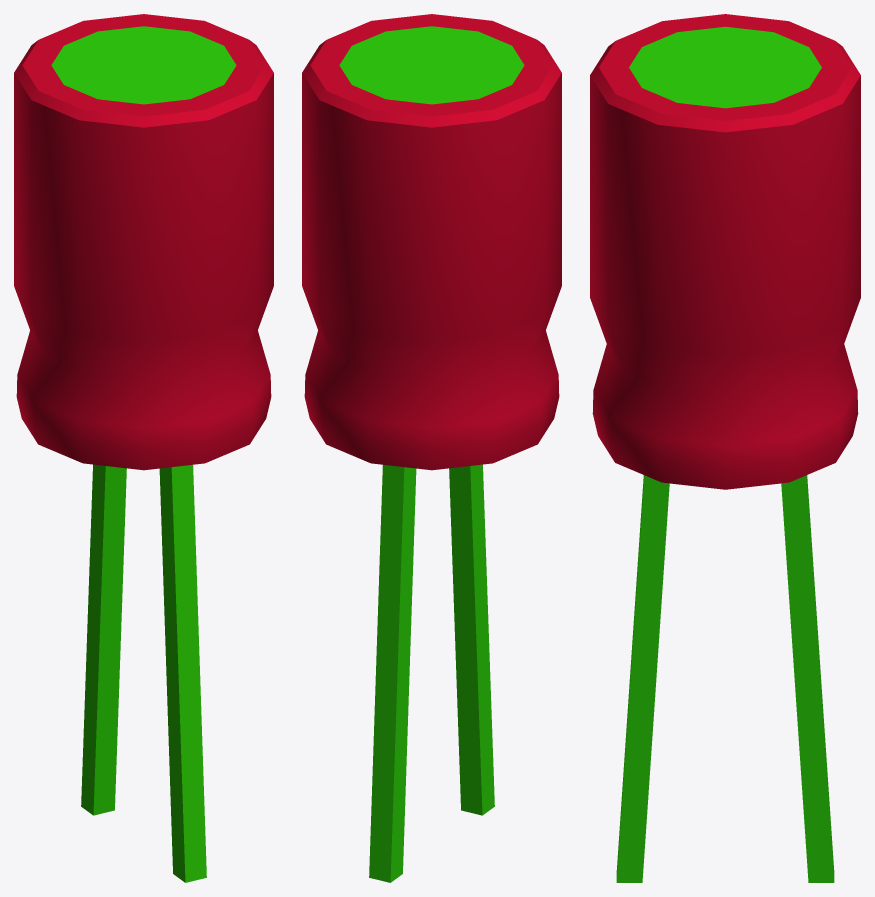
File: Capacitor.fbx
3 views of the same model, side by side, from view 1: azimuth 30°, elevation 25°; view 2: azimuth 150°, elevation 25°; view 3: azimuth 270°, elevation 25° (orthographic). The views are drawn at different scales.
Parts seen in each view (by area): view 1: Cylinder; view 2: Cylinder; view 3: Cylinder.
Part boxes in pixels (x1=…): Cylinder: x1=14, y1=14, x2=273, y2=882; Cylinder: x1=302, y1=14, x2=561, y2=882; Cylinder: x1=590, y1=14, x2=860, y2=882.
Size of the model in its own units: 120 by 396 by 120.
